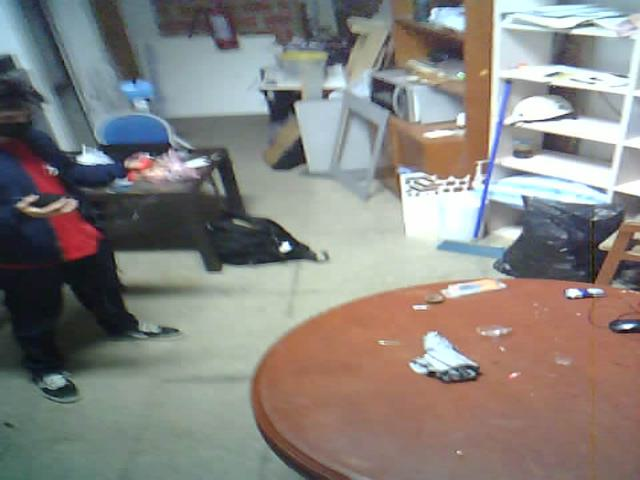person: (0, 64, 207, 415)
